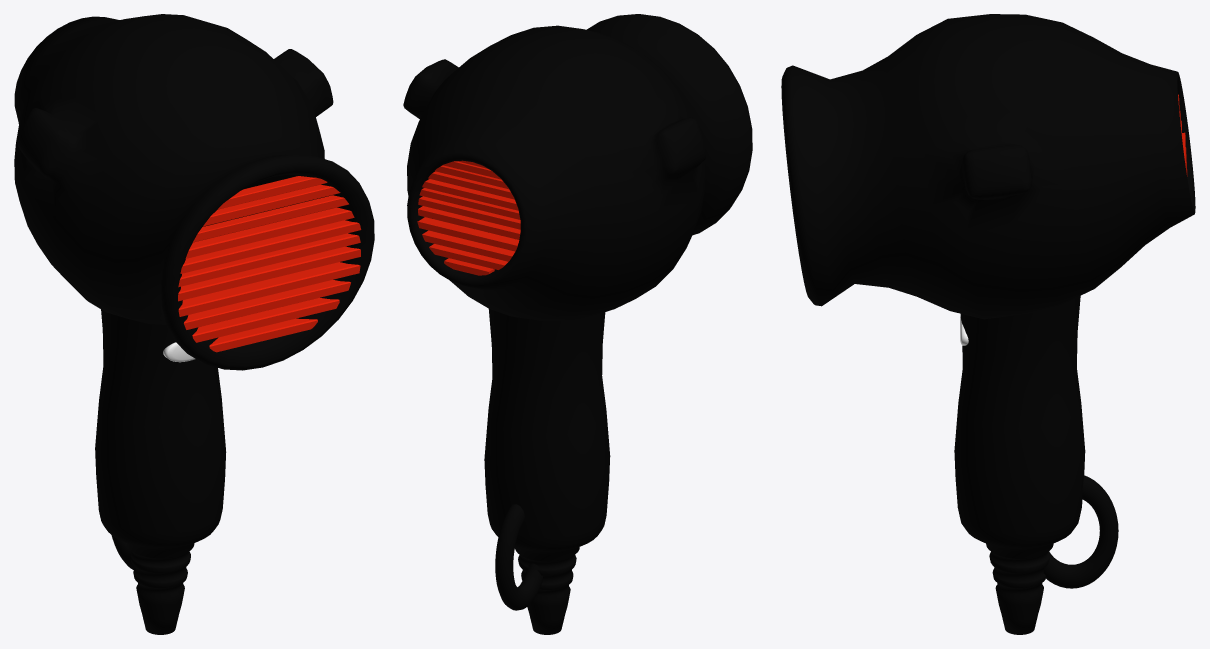
File: HandDryerHealth.fbx
The picture shows the model from 3 angles, left to right: view 1: azimuth 30°, elevation 25°; view 2: azimuth 150°, elevation 25°; view 3: azimuth 270°, elevation 25°; orthographic projection. The views are drawn at different scales.
Parts seen in each view (by area): view 1: Dryer, DryerFrontRack; view 2: Dryer, DryerBackRack; view 3: Dryer.
Boxes of the visible parts, x1,y1,x2,y2 form: Dryer: [14, 14, 374, 634]; DryerFrontRack: [178, 176, 361, 352]; Dryer: [403, 14, 752, 634]; DryerBackRack: [417, 160, 520, 275]; Dryer: [781, 14, 1195, 634].
Size of the model in its own units: 0.6558 by 1.3 by 0.8092.
